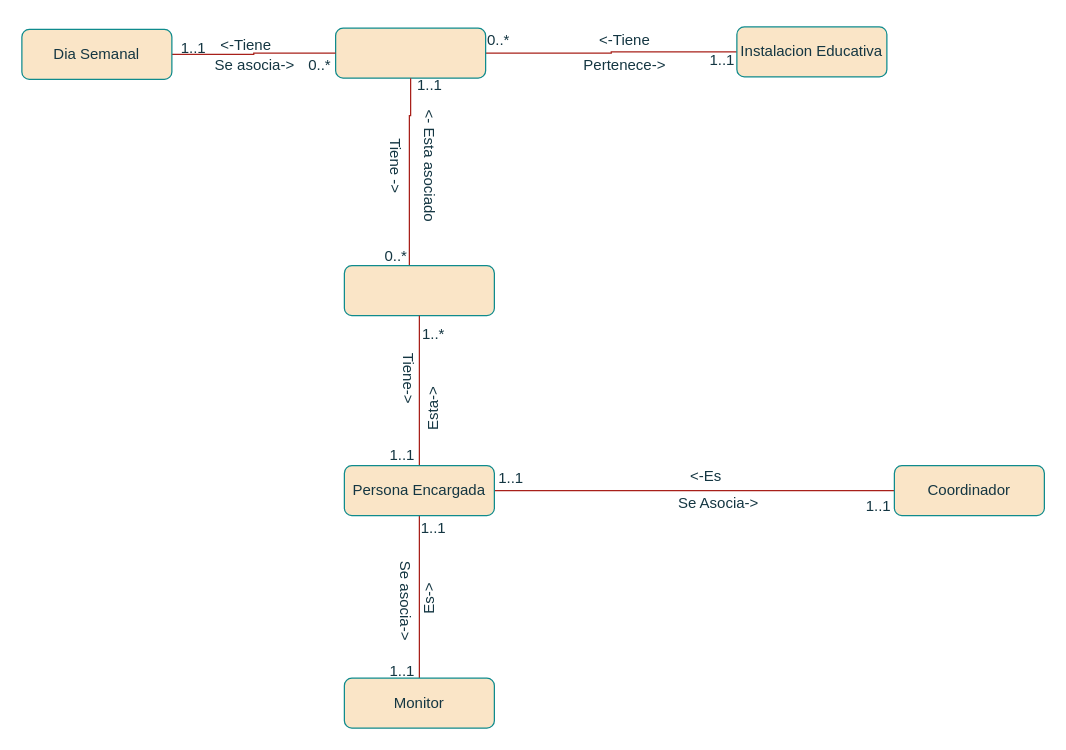
Some shapes in this 1066 by 750 pixel diagram are drawn without their labels. Each missing label, with the box of its shape:
Horario Persona Encargada: (343, 264, 494, 316)
Tiempo Funcionamiento Instalacion Educativa: (334, 27, 486, 78)
